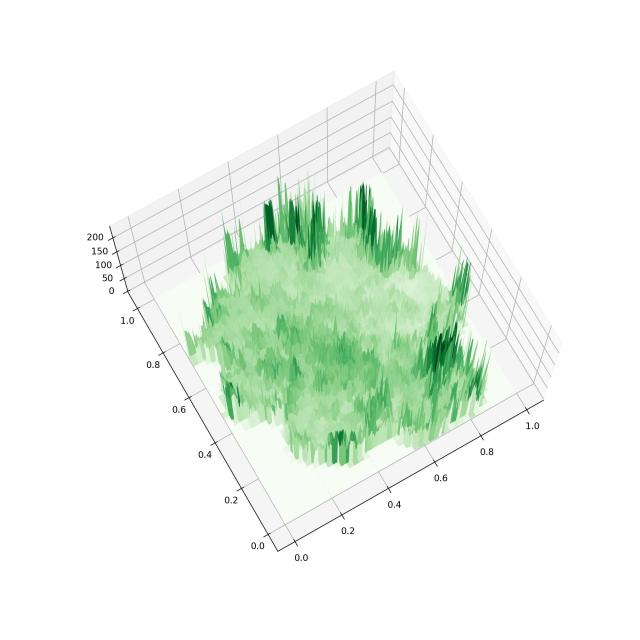fir: (63, 46, 574, 592)
